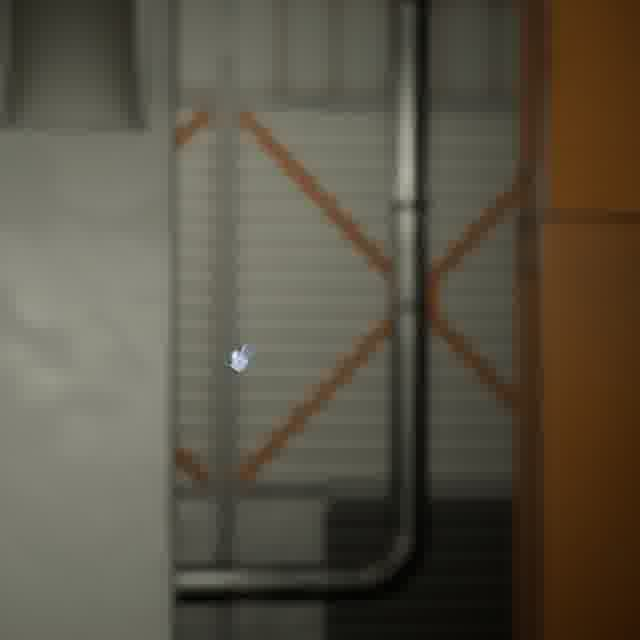nut: (221, 339, 258, 377)
